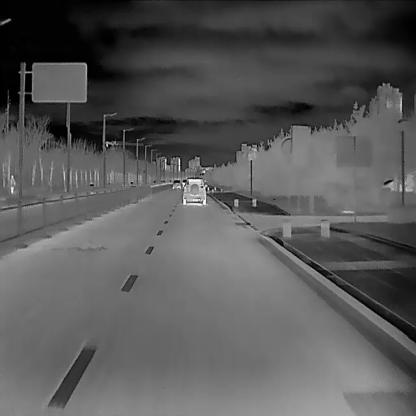car: (182, 176, 207, 205), (172, 179, 180, 189), (182, 179, 186, 187)
